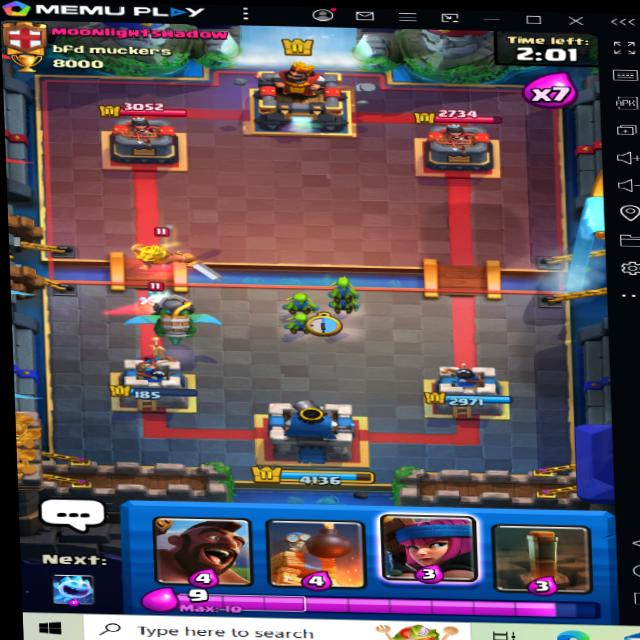golden-knight: (126, 226, 223, 282)
golden-knight-ability: (124, 231, 220, 286)
ice-spirit: (136, 280, 176, 307)
